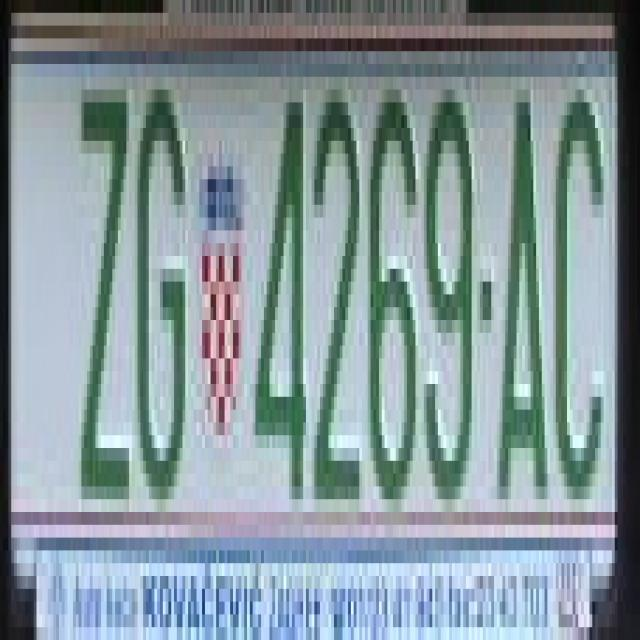2: (317, 102, 357, 486)
4: (258, 90, 300, 499)
6: (370, 77, 412, 486)
9: (421, 90, 472, 487)
A: (497, 90, 553, 512)
C: (562, 90, 606, 499)
G: (140, 90, 186, 499)
Z: (79, 77, 132, 499)
